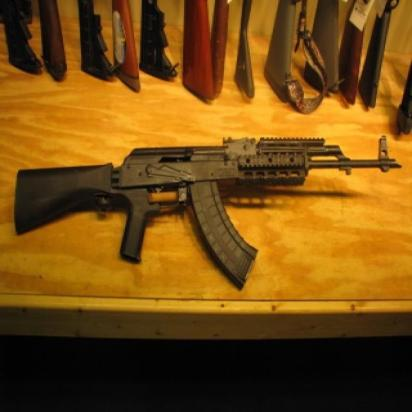Gun: (2, 126, 402, 290)
